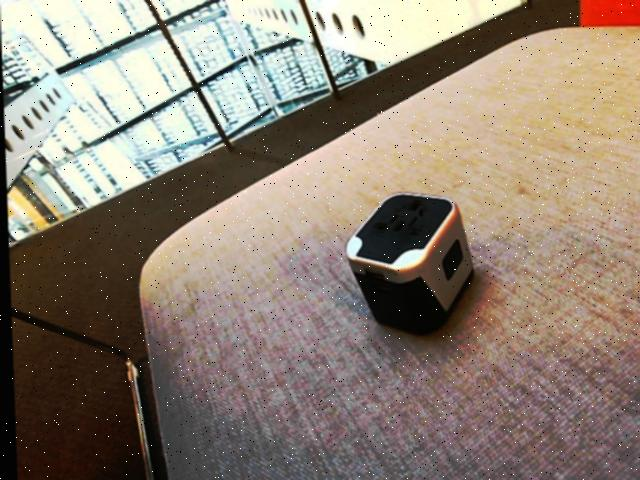adapter: (341, 191, 473, 335)
